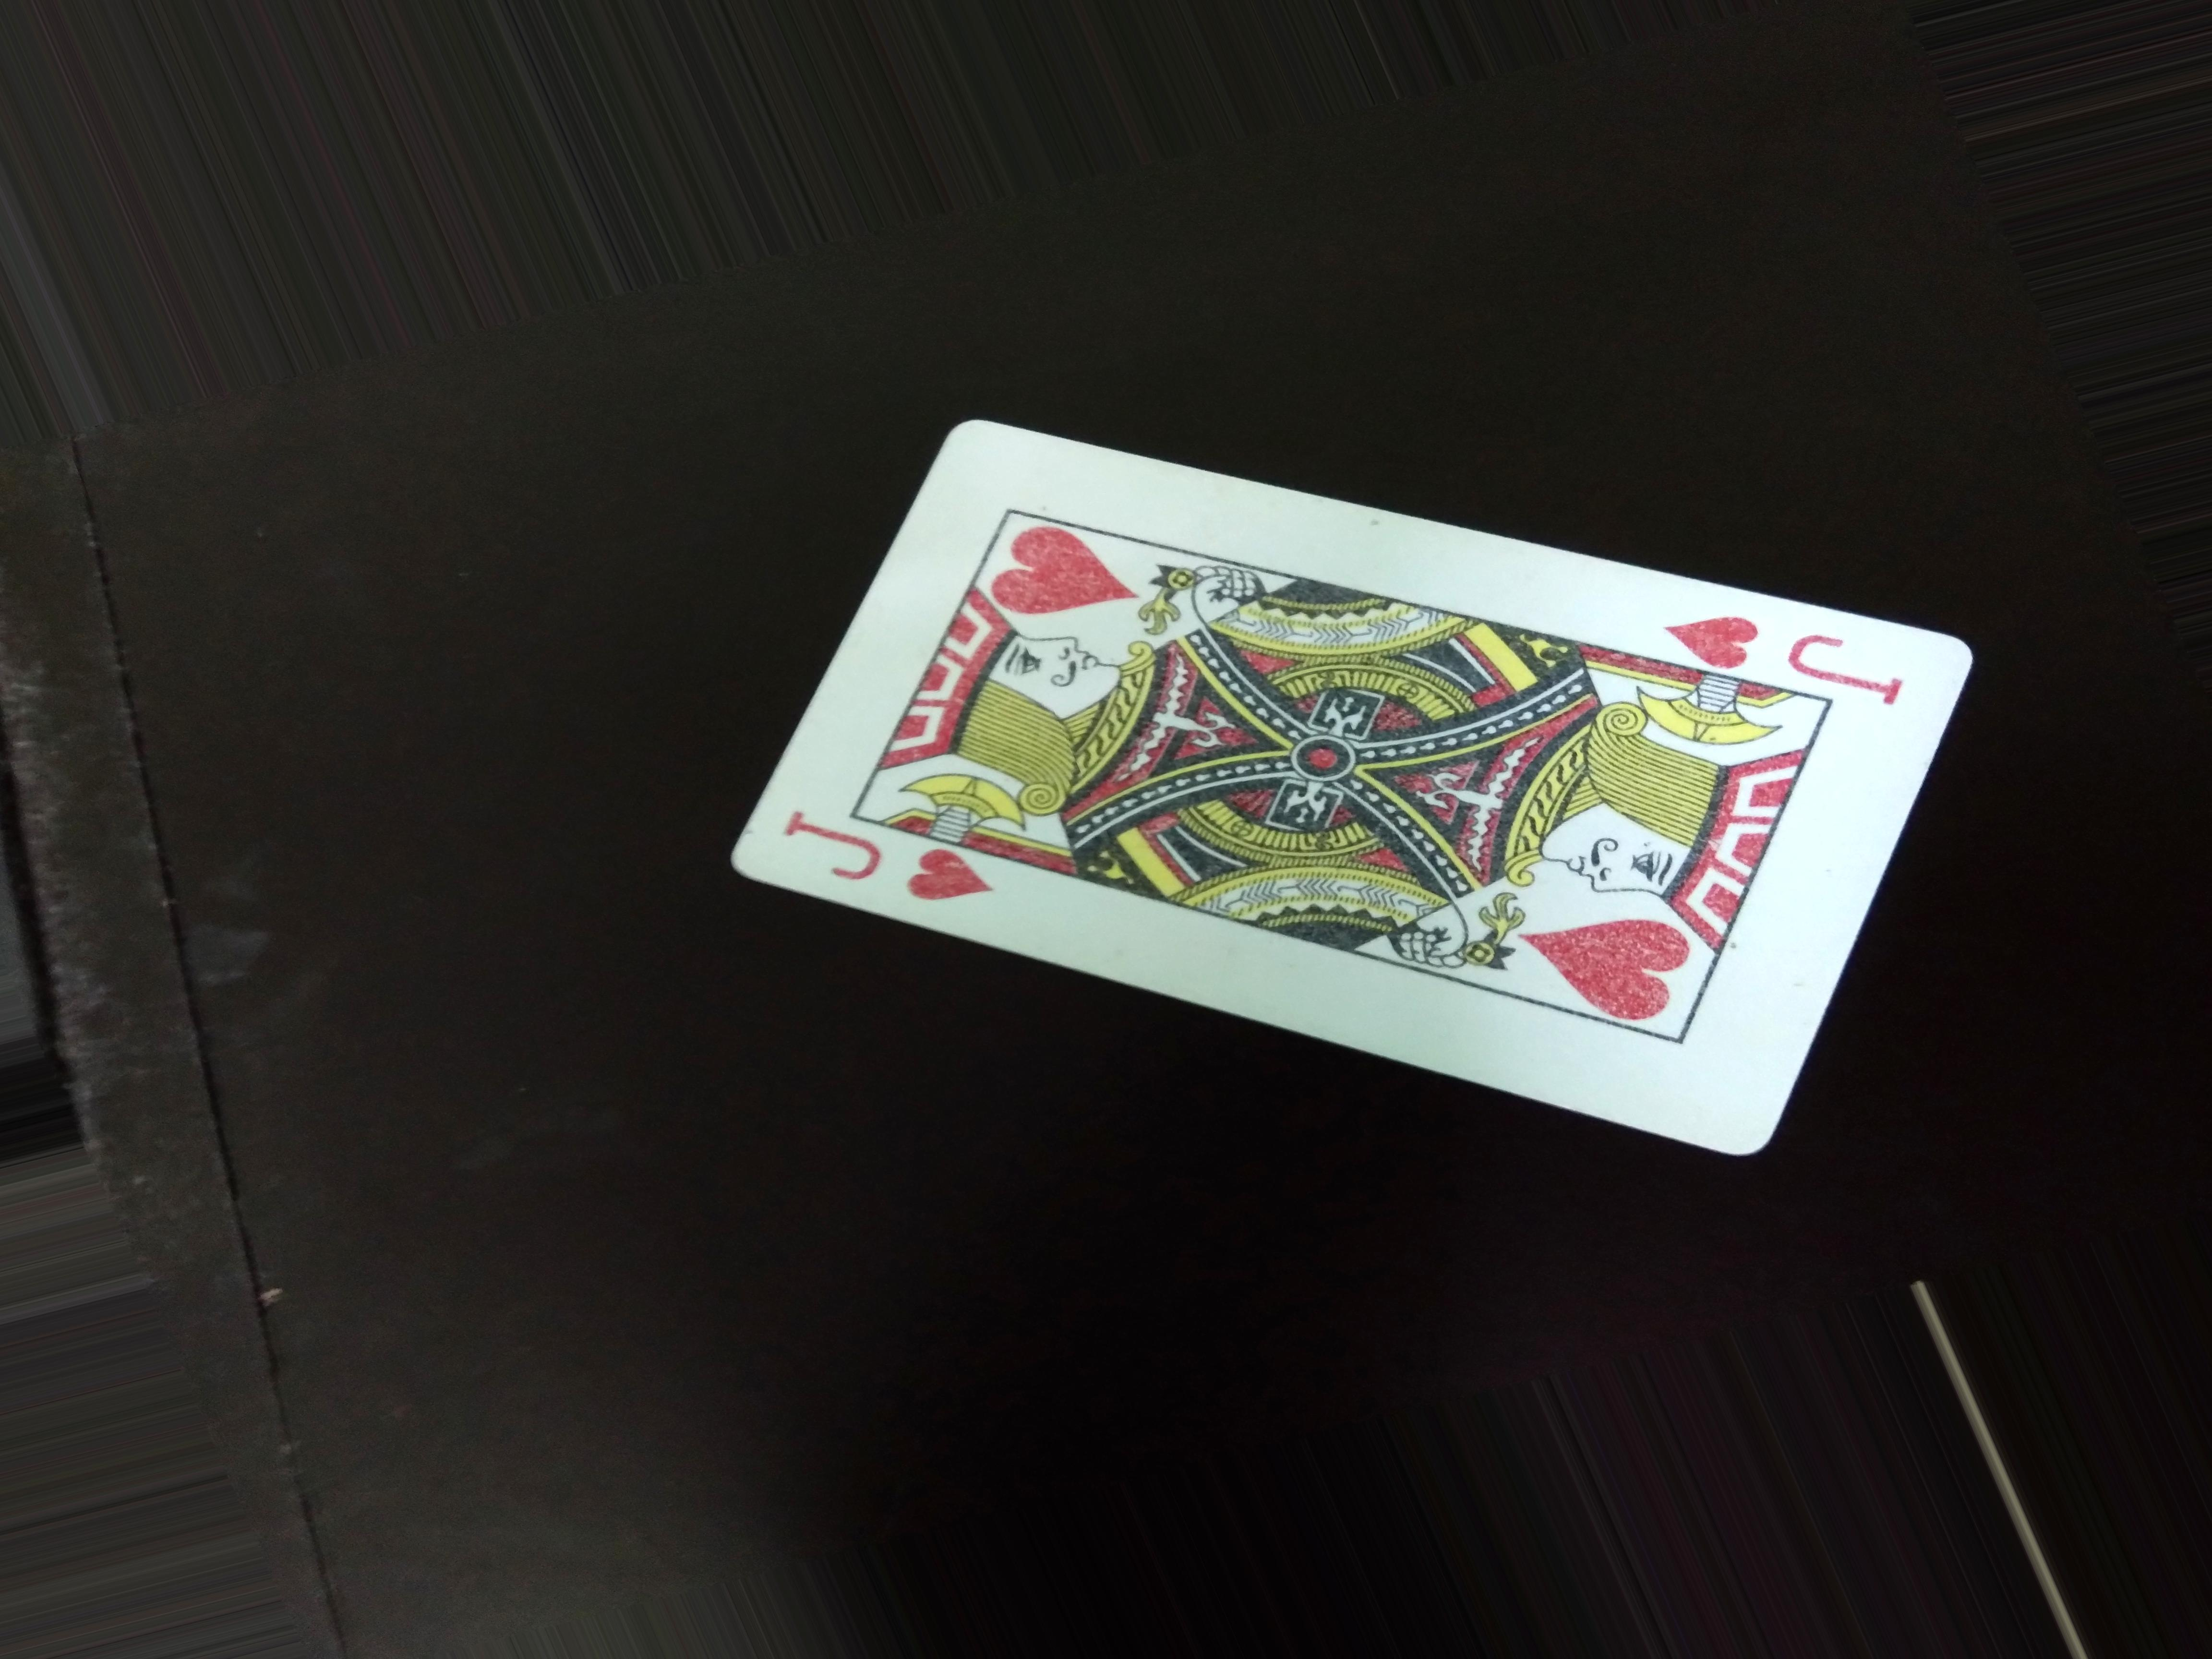JH: (1655, 586, 1916, 704)
